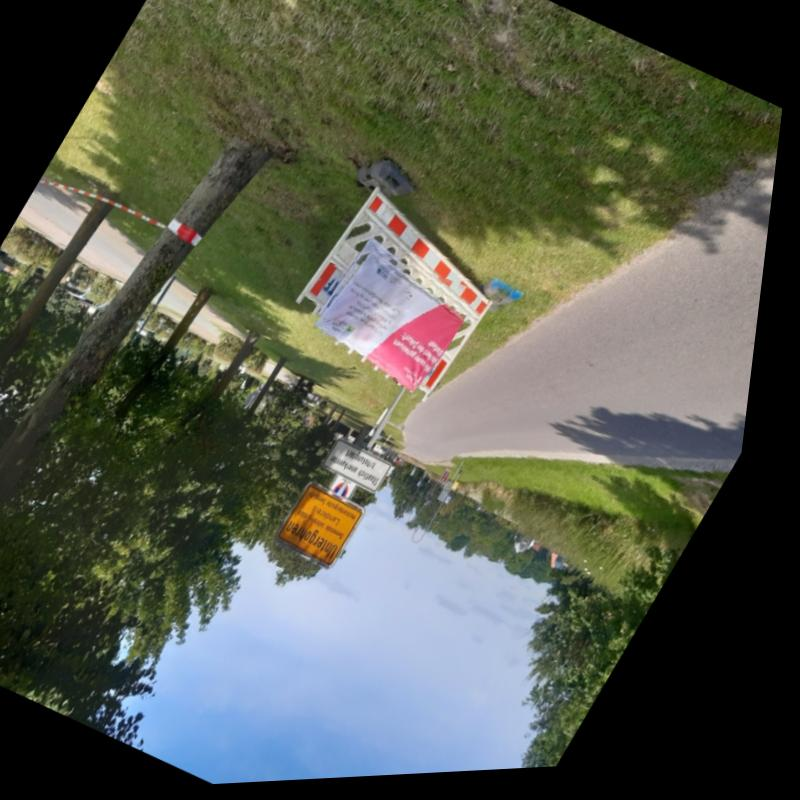Banner: (323, 254, 472, 397)
